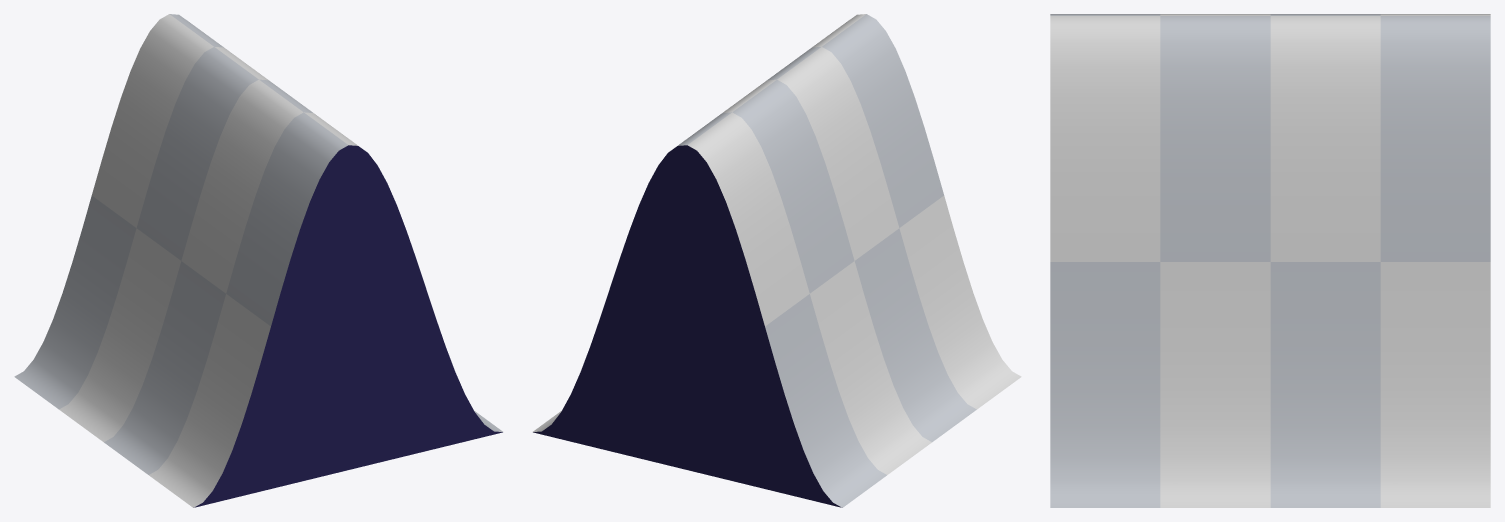
File: arch_white.glb
The picture shows the model from 3 angles, left to right: view 1: azimuth 30°, elevation 25°; view 2: azimuth 150°, elevation 25°; view 3: azimuth 270°, elevation 25°; orthographic projection. The views are drawn at different scales.
Parts seen in each view (by area): view 1: Body; view 2: Body; view 3: Body.
Boxes of the visible parts, left/top/right/bottom form: Body: left=14, top=14, right=503, bottom=507; Body: left=532, top=14, right=1021, bottom=507; Body: left=1050, top=14, right=1490, bottom=507.
Size of the model in its own units: 1 by 1 by 1.
